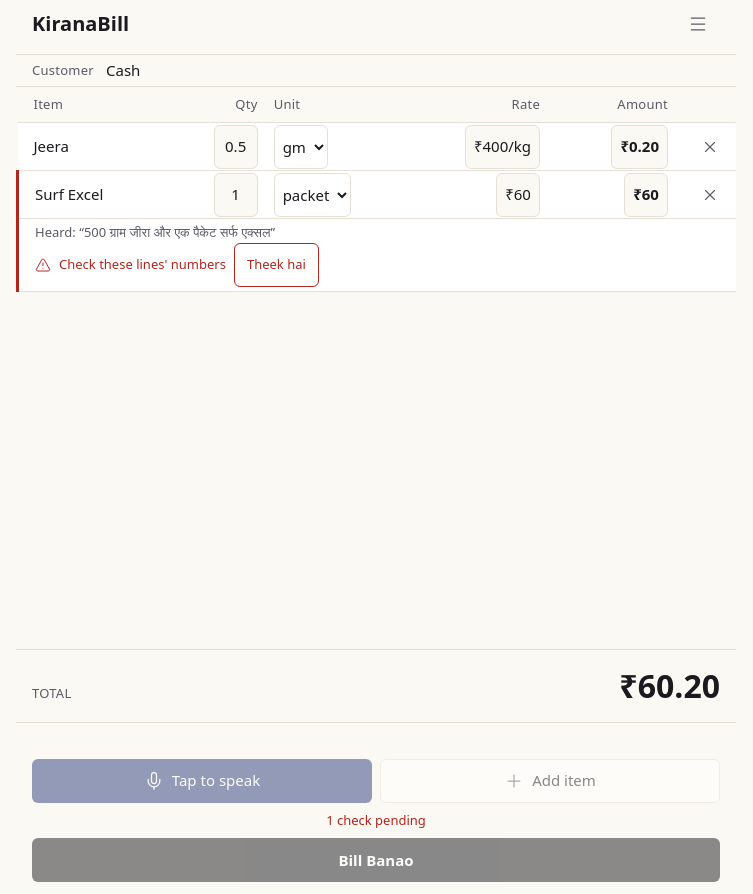
Test case: KB-304 - bill-level flags: a block under the utterance's last line, with its transcript › KI-45's recorded Gemini shape ('500 ग्राम जीरा' -> 0.5 gm): three HIGH bill-level reasons = ONE warning and ONE Theek hai under Surf Excel (KB-363b)
Expected: the row "Surf Excel 1 ₹60 ₹60" is shown, [18,170,736,218]
Expected: the 4th row shows "Heard: “500 ग्राम जीरा और एक पैकेट सर्फ एक्सल”", [35,223,275,241]
What coordinates should you click on to do the following:
click the button "Theek hai"
I would click on:
 (276, 264)
Its box is [234,242,319,286].
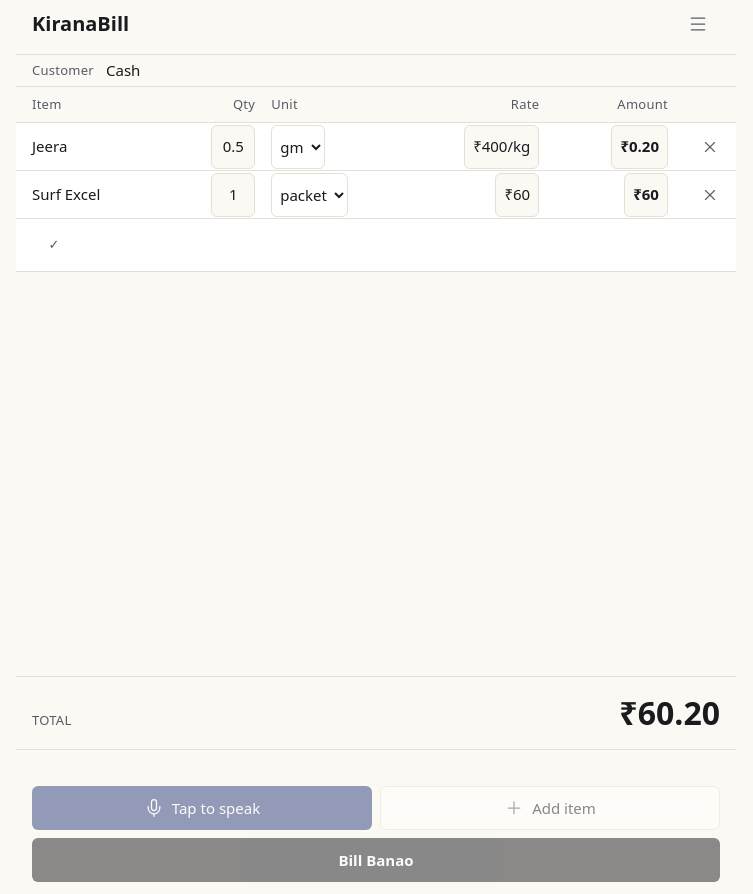
Expected: the text with test id "checks-pending" is gone
Expected: the text "Heard: “500" is gone
Expected: the text "Check these lines' numbers" is gone
What coordinates should you click on to do the following:
click the button named "Checked"
I would click on:
 (54, 245)
Its box is [32,223,76,267].
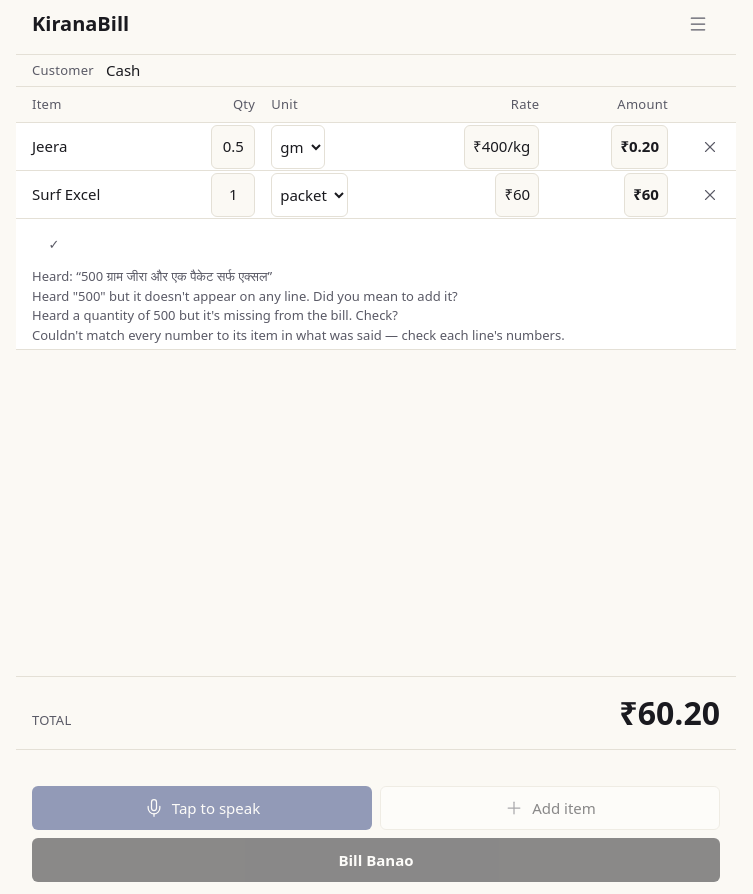
Expected: the text "Heard: “500 ग्राम जीरा और एक पैकेट सर्फ एक्सल”" is shown, [32,267,272,285]
Expected: the list item "Couldn't match every number" is shown, [32,326,565,344]
